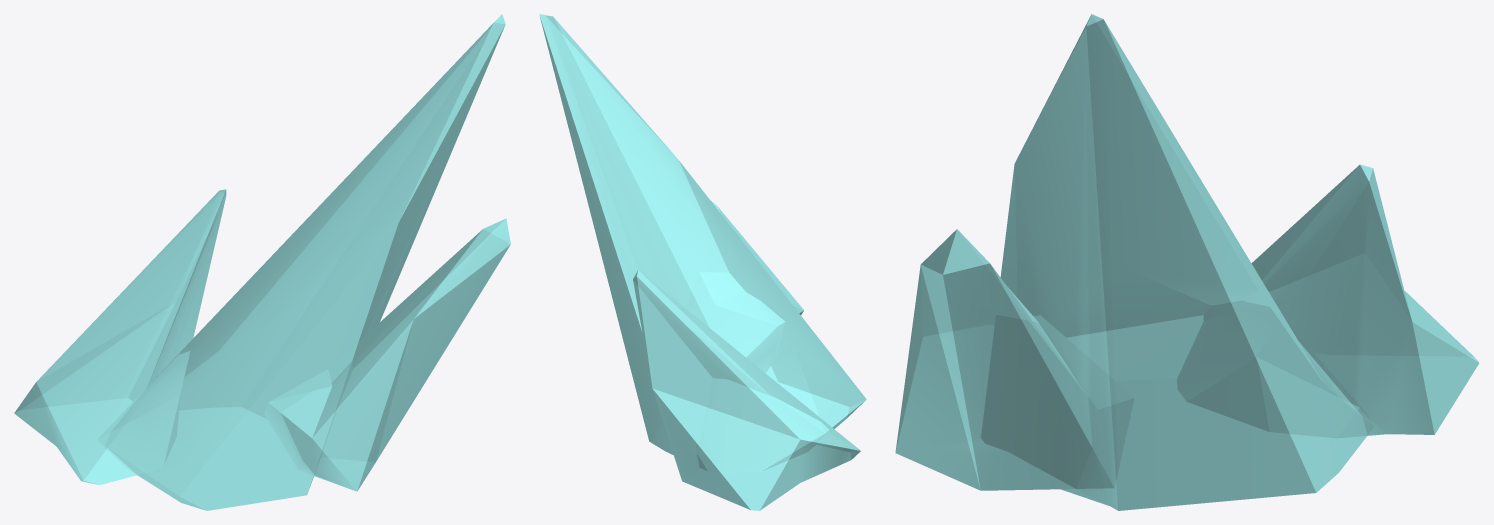
File: Rock_Large_Spikes_Ice_01.fbx
3 renders of one model, left to right at view 1: azimuth 30°, elevation 25°; view 2: azimuth 150°, elevation 25°; view 3: azimuth 270°, elevation 25°, orthographic. The views are drawn at different scales.
Parts seen in each view (by area): view 1: Rock_Large_Spikes_Ice_01; view 2: Rock_Large_Spikes_Ice_01; view 3: Rock_Large_Spikes_Ice_01.
Boxes of the visible parts, left/top/right/bottom form: Rock_Large_Spikes_Ice_01: left=14, top=14, right=510, bottom=510; Rock_Large_Spikes_Ice_01: left=539, top=14, right=866, bottom=510; Rock_Large_Spikes_Ice_01: left=895, top=14, right=1479, bottom=510.
Size of the model in its own units: 35.76 by 34.21 by 29.07.
